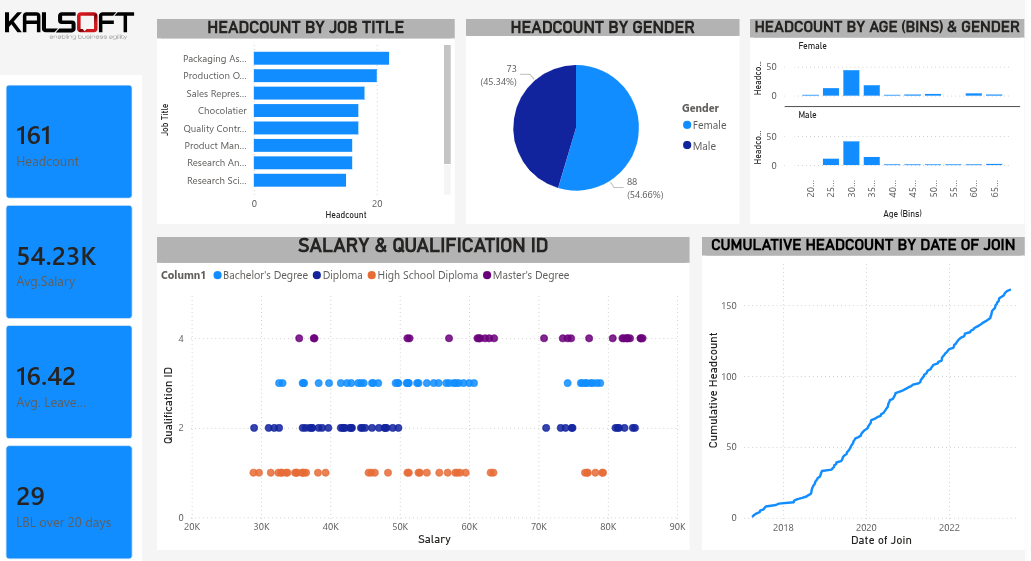

The dashboard page shown, as its layout file describes it:
{"tool":"powerbi","page":{"name":"Page 10","canvas":[1280,720],"ordinal":9},"visuals":[{"type":"cardVisual","fields":{"Data":["Staff.Headcount","Staff.Avg.Salary","Staff.Avg. Leave Balance","Staff.LBL over 20 days"]},"box":[0,98.5,191,622.3],"z":0},{"type":"clusteredBarChart","title":"HEADCOUNT BY JOB TITLE","fields":{"Category":["Staff.Job Title"],"Y":["Staff.Headcount"]},"box":[204.1,34,368.5,253.7],"z":1000},{"type":"pieChart","title":"HEADCOUNT BY GENDER","fields":{"Category":["Staff.Gender"],"Y":["Staff.Headcount"]},"box":[586.8,34,338.8,253.7],"z":2000},{"type":"columnChart","title":"HEADCOUNT BY AGE (BINS) & GENDER","fields":{"Y":["Staff.Headcount"],"Category":["Staff.Age (Bins)"],"Rows":["Staff.Gender"]},"box":[939.8,34,340.2,253.7],"z":3000},{"type":"scatterChart","title":"SALARY & QUALIFICATION ID","fields":{"X":["Staff.Salary"],"Y":["Qualification.Qualification ID"],"Series":["Qualification.Column1"]},"box":[204.8,303.3,659.7,387.9],"z":4000},{"type":"lineChart","title":"CUMULATIVE HEADCOUNT BY DATE OF JOIN","fields":{"Y":["Staff.Cumulative Headcount"],"Category":["Staff.Date of Join"]},"box":[880.2,303.3,399.8,387.9],"z":5000},{"type":"image","box":[15.6,0,160.2,83.6],"z":6000}]}

Visuals, with their boxes on the page's 1280x720 design canvas (x1, y1, x2, y2). These are canvas units, not pixel positions in the 1031x561 screenshot, which may show the page scaled, cropped or inside an application window:
cardVisual - Staff.Headcount x Staff.Avg.Salary: {"left": 0, "top": 98, "right": 191, "bottom": 721}
"HEADCOUNT BY JOB TITLE" clusteredBarChart: {"left": 204, "top": 34, "right": 573, "bottom": 288}
"HEADCOUNT BY GENDER" pieChart: {"left": 587, "top": 34, "right": 926, "bottom": 288}
"HEADCOUNT BY AGE (BINS) & GENDER" columnChart: {"left": 940, "top": 34, "right": 1280, "bottom": 288}
"SALARY & QUALIFICATION ID" scatterChart: {"left": 205, "top": 303, "right": 864, "bottom": 691}
"CUMULATIVE HEADCOUNT BY DATE OF JOIN" lineChart: {"left": 880, "top": 303, "right": 1280, "bottom": 691}
image: {"left": 16, "top": 0, "right": 176, "bottom": 84}
